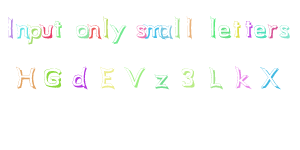3: (179, 66, 197, 89)
E: (100, 66, 117, 90)
G: (41, 65, 64, 90)
H: (14, 63, 39, 91)
I: (4, 14, 20, 41)
L: (208, 65, 224, 91)
V: (123, 64, 146, 90)
X: (258, 66, 282, 91)
a: (158, 21, 174, 41)
d: (70, 66, 90, 90)
e: (217, 24, 232, 40), (253, 23, 267, 39)
k: (233, 65, 253, 91)
l: (182, 15, 198, 40), (206, 15, 218, 40), (101, 15, 111, 39), (173, 15, 183, 39)
m: (142, 21, 164, 41)
n: (86, 19, 102, 41), (15, 21, 30, 40)
o: (74, 22, 91, 41)
p: (26, 23, 43, 46)
r: (267, 22, 278, 40)
s: (279, 21, 293, 42), (134, 22, 148, 41)
t: (232, 16, 243, 40), (244, 17, 254, 40), (53, 19, 64, 38)
u: (39, 22, 54, 40)
y: (110, 22, 127, 46)
z: (152, 71, 171, 90)
